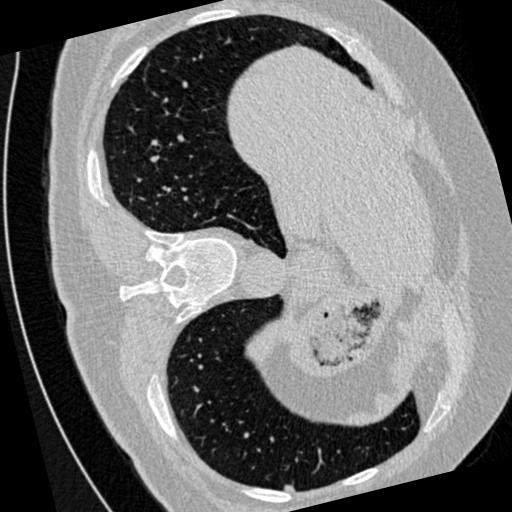nodule: (282, 480, 299, 497)
